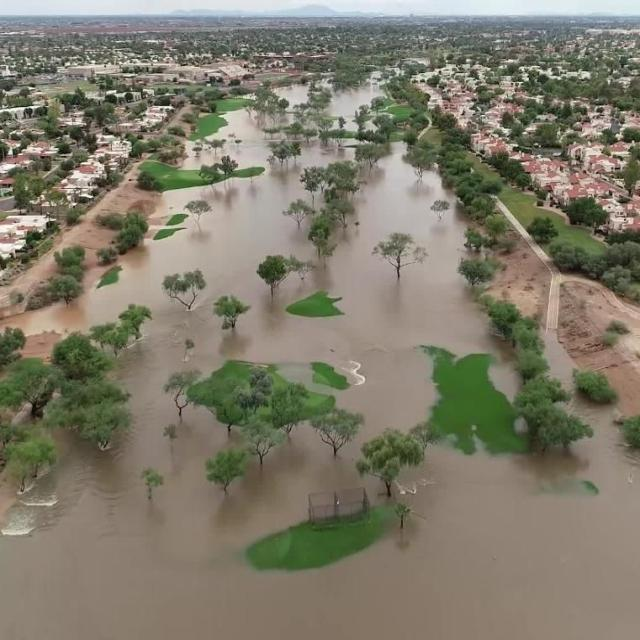flooded_areas: (48, 40, 559, 639)
